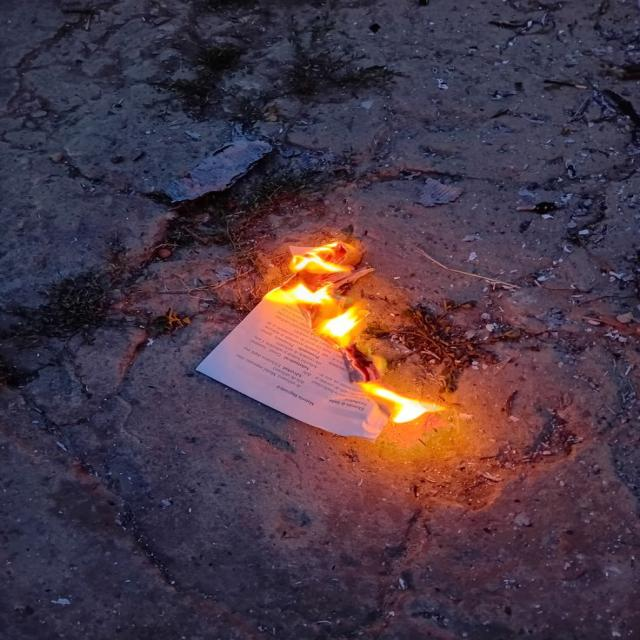fire: (360, 380, 448, 424), (305, 289, 371, 347), (285, 241, 355, 277), (265, 278, 335, 306)
